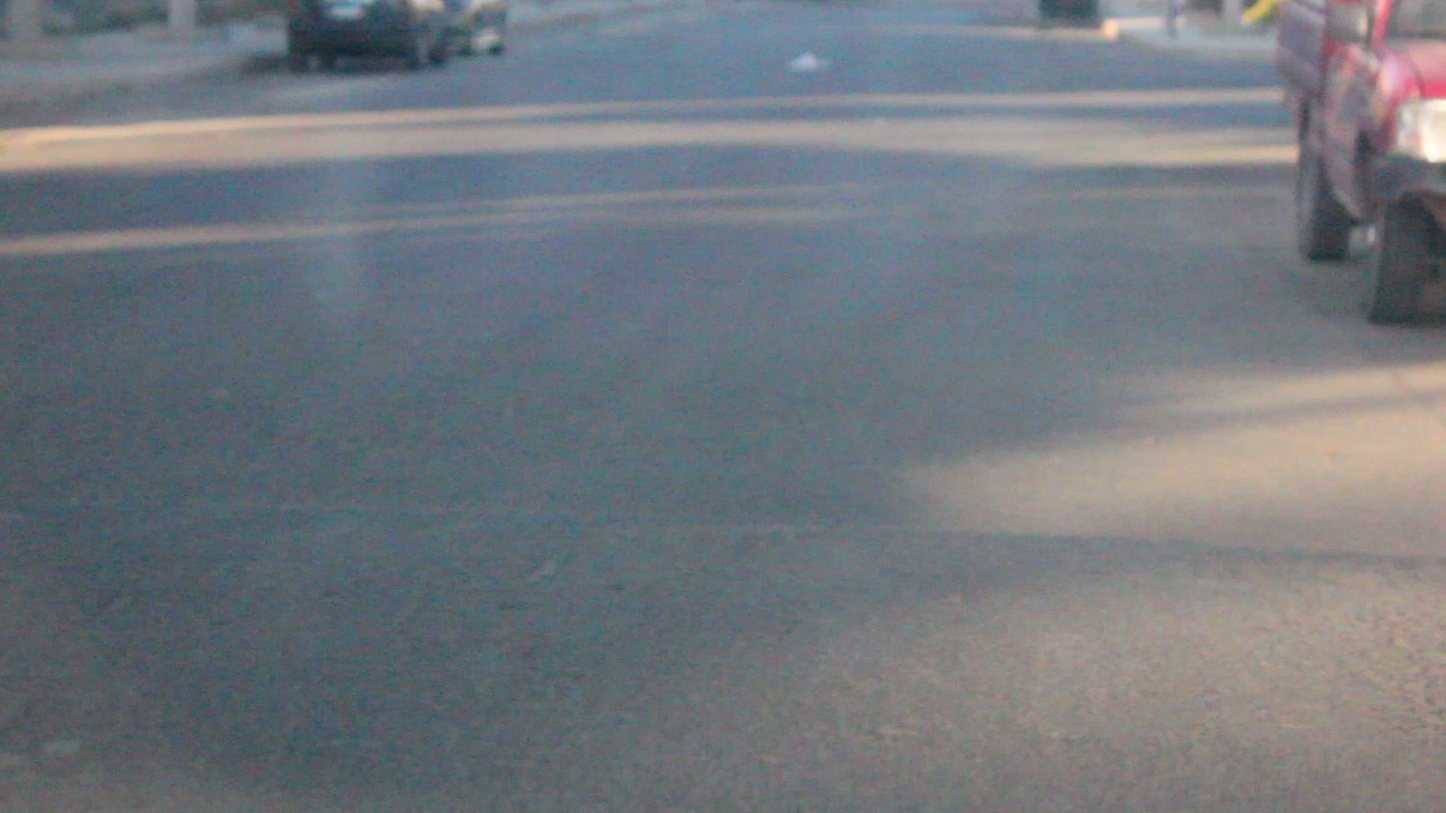Bump: (0, 516, 1446, 813)
